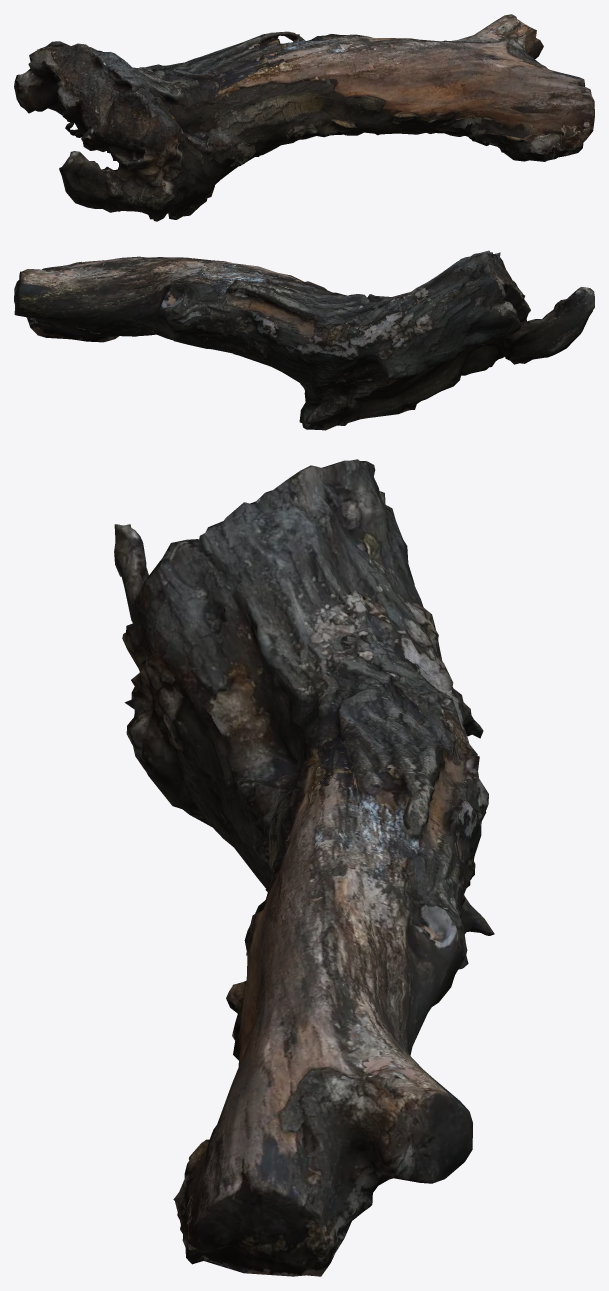
Rendered from mossy-log.glb.
The picture shows the model from 3 angles, top to bottom: view 1: azimuth 30°, elevation 25°; view 2: azimuth 150°, elevation 25°; view 3: azimuth 270°, elevation 25°; orthographic projection. The views are drawn at different scales.
Visible parts, largest first — view 1: ForestLogMedium_1; view 2: ForestLogMedium_1; view 3: ForestLogMedium_1.
Boxes of the visible parts, x1,y1,x2,y2 form: ForestLogMedium_1: (14, 14, 594, 221); ForestLogMedium_1: (14, 250, 594, 430); ForestLogMedium_1: (114, 459, 494, 1276).
Bounding box in the file's own units: 1.32 × 0.4497 × 0.4148.
1 material, 1 textured.
